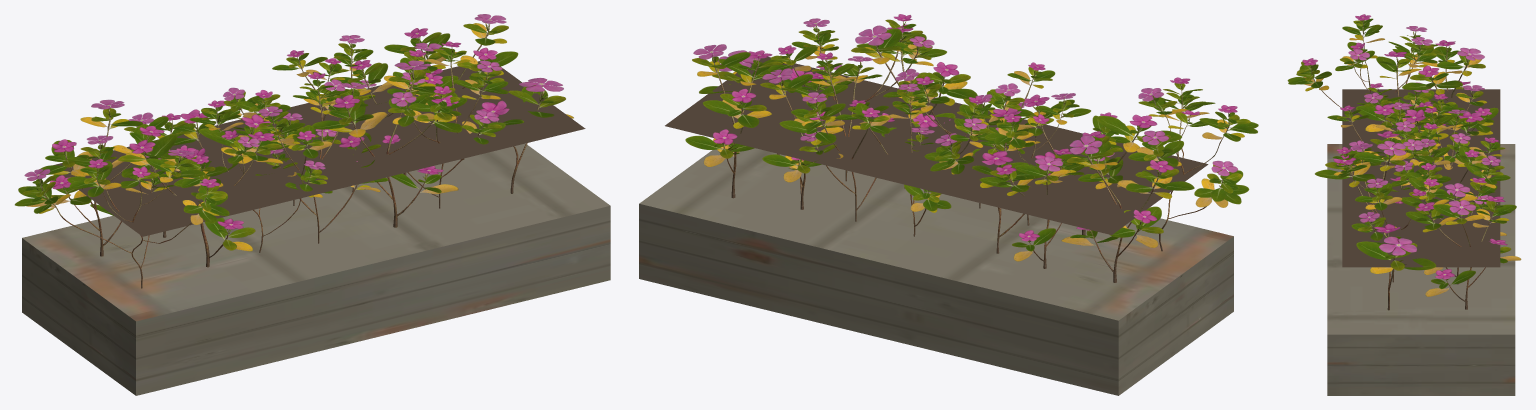
Rendered from flowers.glb.
3 views of the same model, side by side, from view 1: azimuth 30°, elevation 25°; view 2: azimuth 150°, elevation 25°; view 3: azimuth 270°, elevation 25° (orthographic). The views are drawn at different scales.
Visible parts, largest first — view 1: PH_flowerbed; view 2: PH_flowerbed; view 3: PH_flowerbed.
Part boxes in pixels (box(x1,y1,x2,y2)): PH_flowerbed: box(14, 14, 610, 395); PH_flowerbed: box(639, 14, 1258, 395); PH_flowerbed: box(1287, 14, 1521, 395).
Size of the model in its own units: 1.36 by 0.5489 by 0.6237.
3 materials, 2 textured.
